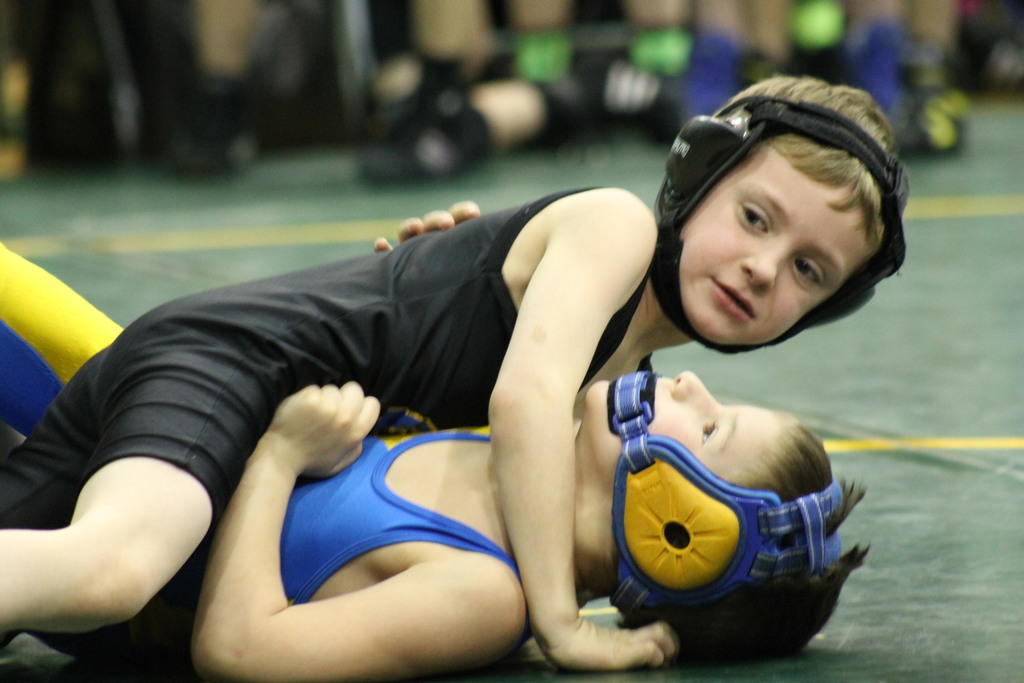face: (679, 141, 869, 342)
